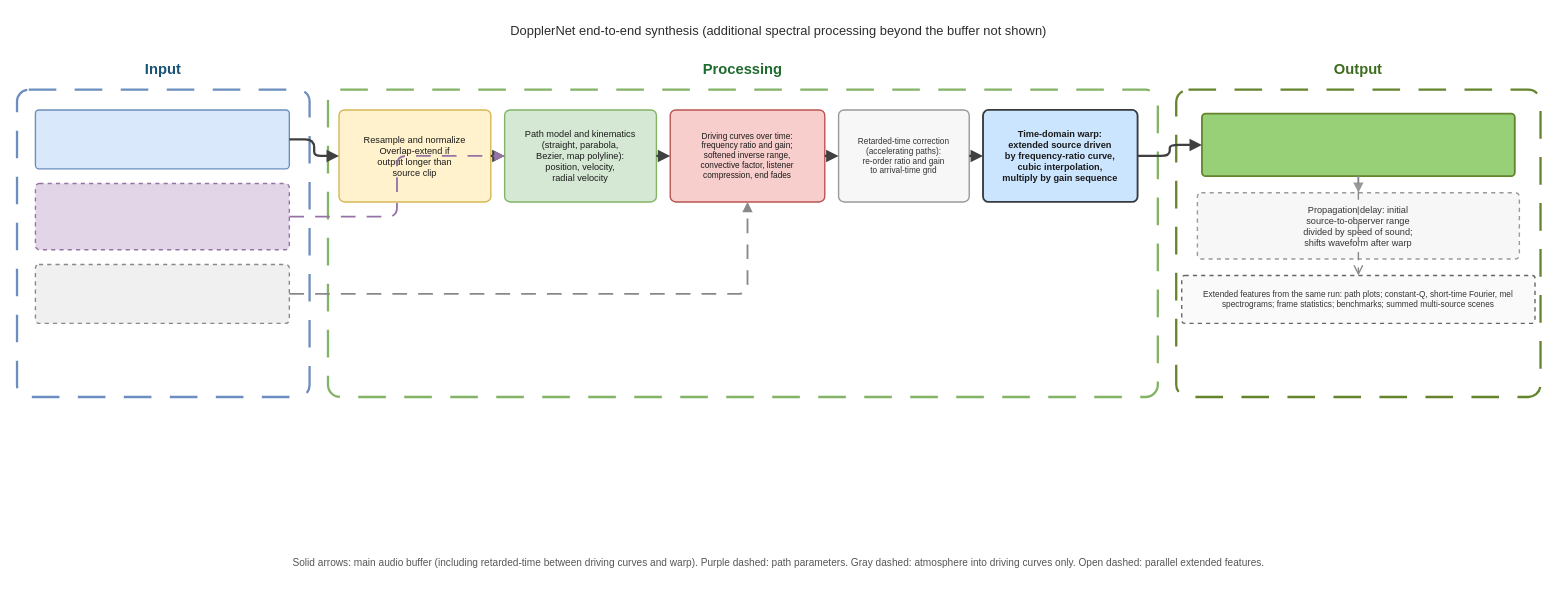
Image size: 1558x598. Some labels were removed from this diagram. The centre of each missing label's shape, as x and y in pixels:
"Pass-by waveform at fixed duration and sampling rate" belongs at (1358,144).
"Path and scenario parameters (speed, geometry, duration, …)" belongs at (162,216).
"Short monophonic vehicle recordings" belongs at (162,139).
"Temperature and relative humidity for speed of sound in air" belongs at (162,293).
